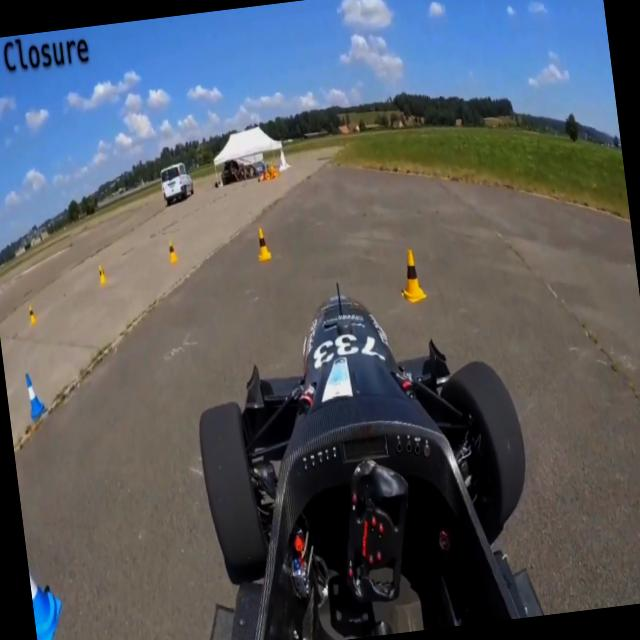blue_cone: (24, 536, 58, 634), (19, 374, 45, 422)
yellow_cone: (395, 244, 428, 308), (248, 221, 282, 271), (158, 231, 186, 270), (93, 258, 109, 286)
